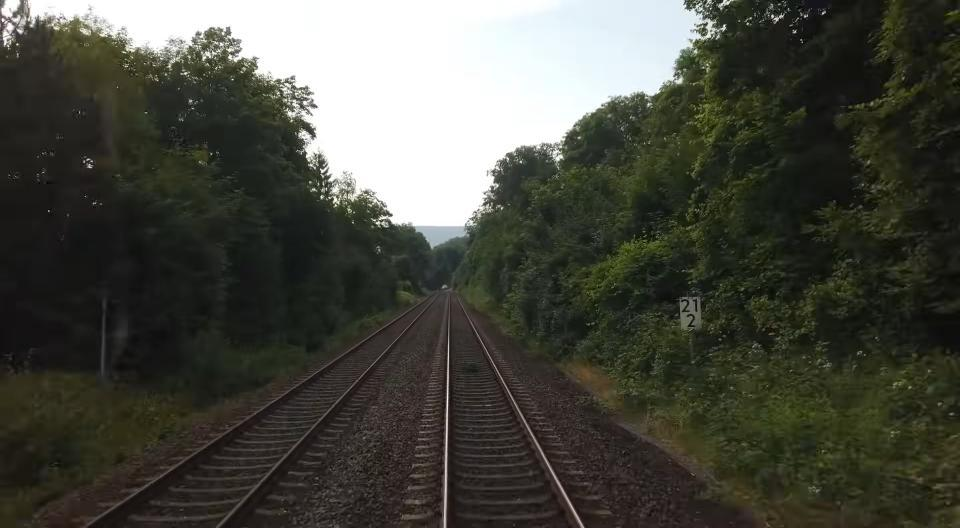Plant: (0, 346, 313, 528), (461, 289, 552, 364), (694, 482, 769, 528), (331, 301, 408, 344), (578, 397, 620, 415), (462, 362, 480, 373)
